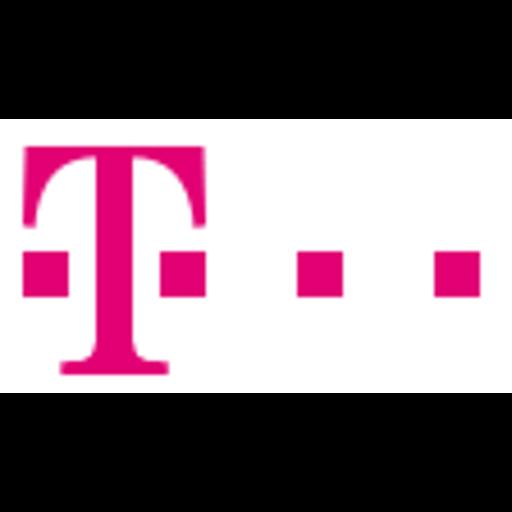Deutsche Telekom: (0, 119, 512, 393)
